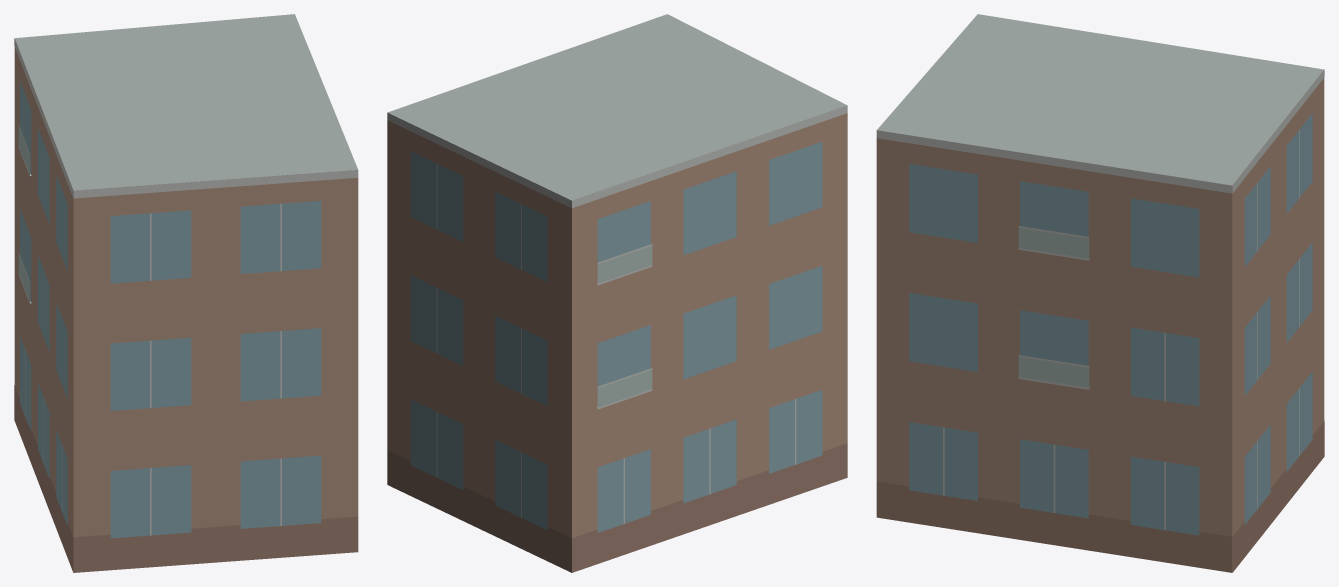
The model's file is survey-upis-32471093.glb.
3 views of the same model, side by side, from view 1: azimuth 30°, elevation 25°; view 2: azimuth 150°, elevation 25°; view 3: azimuth 270°, elevation 25° (orthographic). The views are drawn at different scales.
Parts seen in each view (by area): view 1: survey-upis-32471093.tmp; view 2: survey-upis-32471093.tmp; view 3: survey-upis-32471093.tmp.
Boxes of the visible parts, x1,y1,x2,y2 form: survey-upis-32471093.tmp: [14, 14, 358, 572]; survey-upis-32471093.tmp: [387, 14, 847, 572]; survey-upis-32471093.tmp: [876, 14, 1324, 572].
Size of the model in its own units: 11.3 by 11.88 by 12.46.
